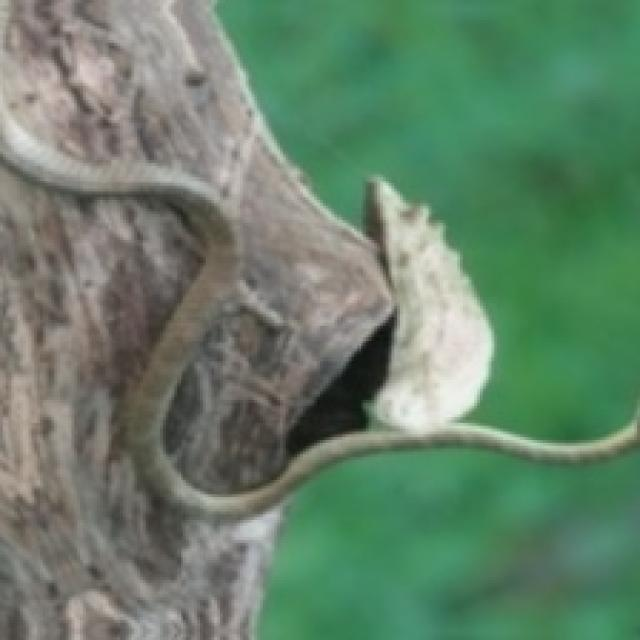paradise tree snake: (3, 0, 389, 486), (3, 171, 194, 554)
